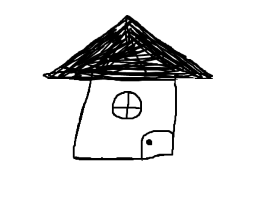closed_window: (108, 89, 145, 123)
door: (137, 125, 174, 164)
shaded_roof: (42, 15, 216, 86)
wall: (71, 74, 182, 166)
